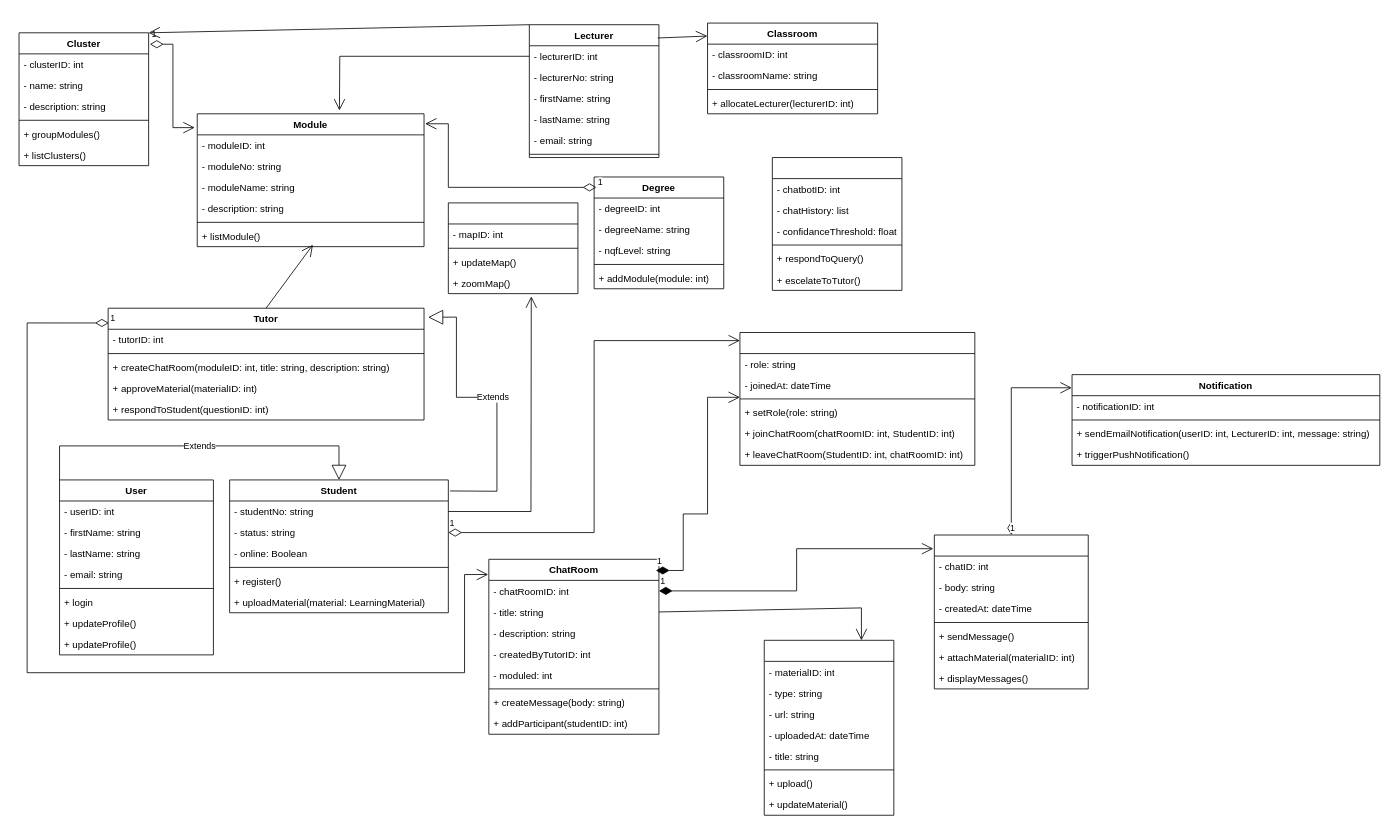
Image size: 1394x832. Some labels were removed from this diagram. Each missing label, with the box of its shape:
AIChatBot: (772, 157, 902, 290)
CampusMap: (448, 202, 578, 294)
ChatRoomChats: (934, 534, 1088, 689)
ChatRoomParticipant: (739, 332, 975, 465)
LearningMaterial: (763, 639, 894, 815)
